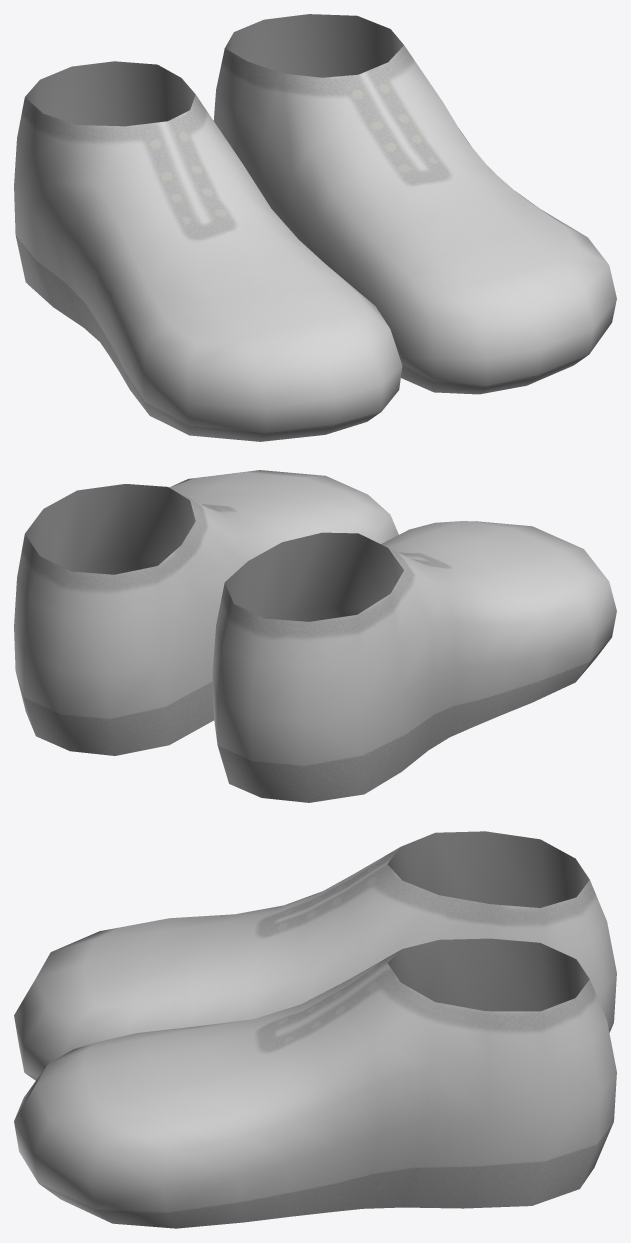
File: Shoes.FBX
3 renders of one model, top to bottom at view 1: azimuth 30°, elevation 25°; view 2: azimuth 150°, elevation 25°; view 3: azimuth 270°, elevation 25°, orthographic. The views are drawn at different scales.
Parts seen in each view (by area): view 1: Shoes_Off; view 2: Shoes_Off; view 3: Shoes_Off.
Boxes of the visible parts, <box> form: Shoes_Off: <box>14,14,616,441</box>; Shoes_Off: <box>14,470,616,802</box>; Shoes_Off: <box>14,831,616,1228</box>.
Size of the model in its own units: 16.93 by 6.93 by 18.5.
